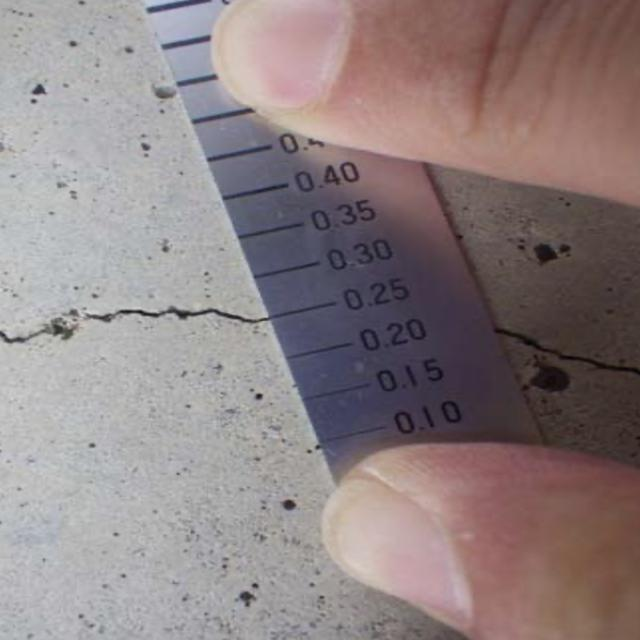crack: (3, 272, 266, 378), (503, 296, 640, 401)
